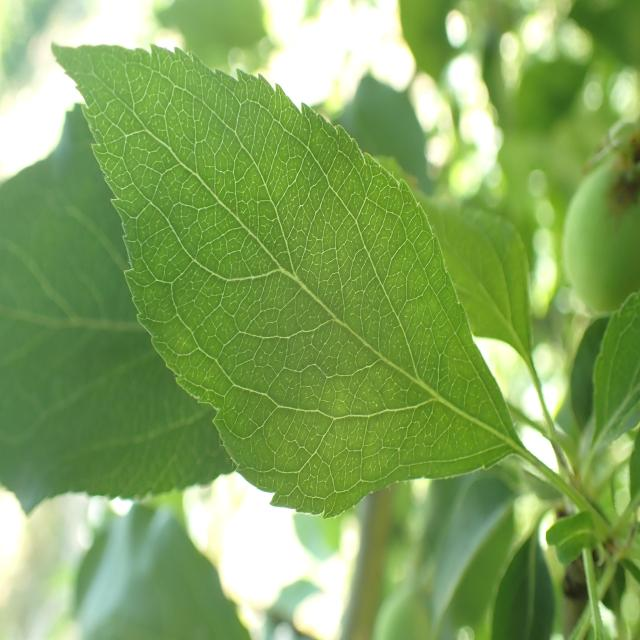healthy: (49, 40, 520, 519), (0, 110, 236, 518), (592, 291, 640, 443)
